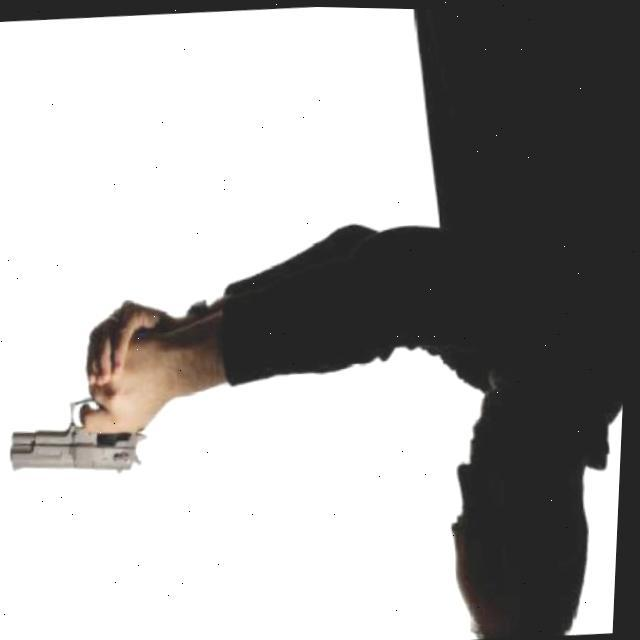gun: (8, 380, 156, 483)
